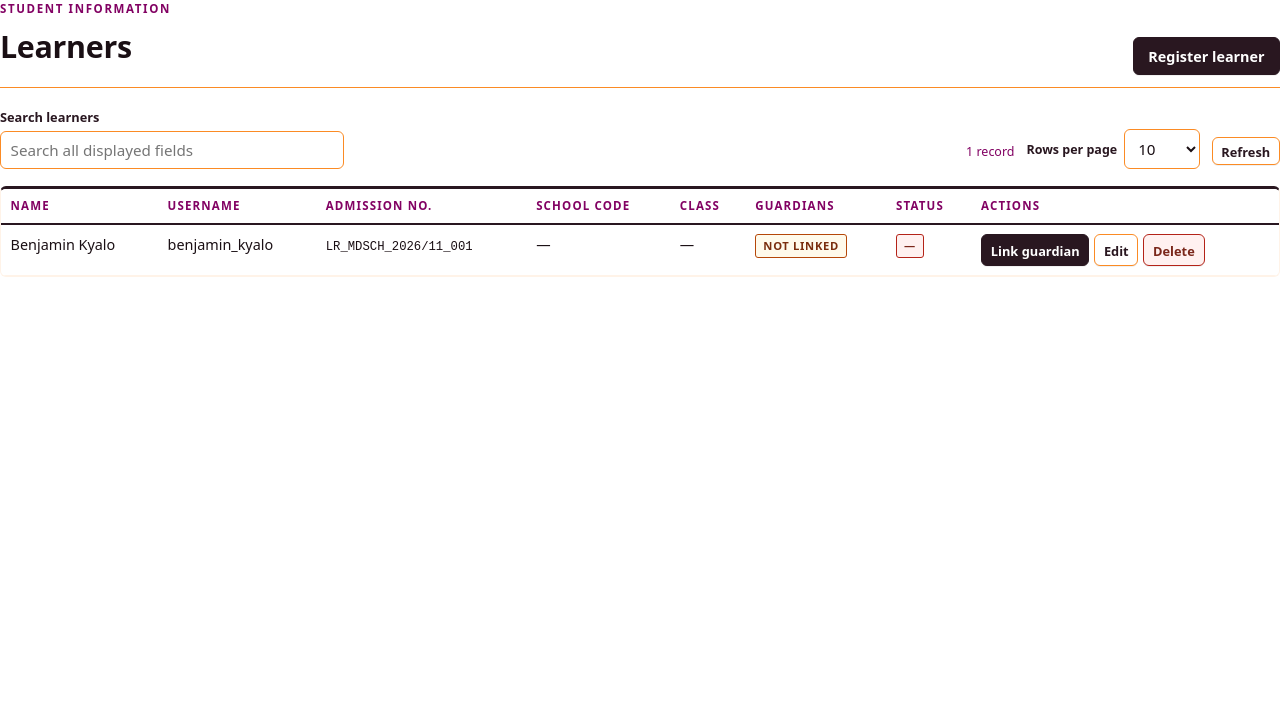
Test: Learners guardian linking › searches live, prefills the guardian details and posts the selected id
Later steps or results of the test are not shown.
Click the button "Link guardian" at (1035, 250), box [981,234,1089,266]
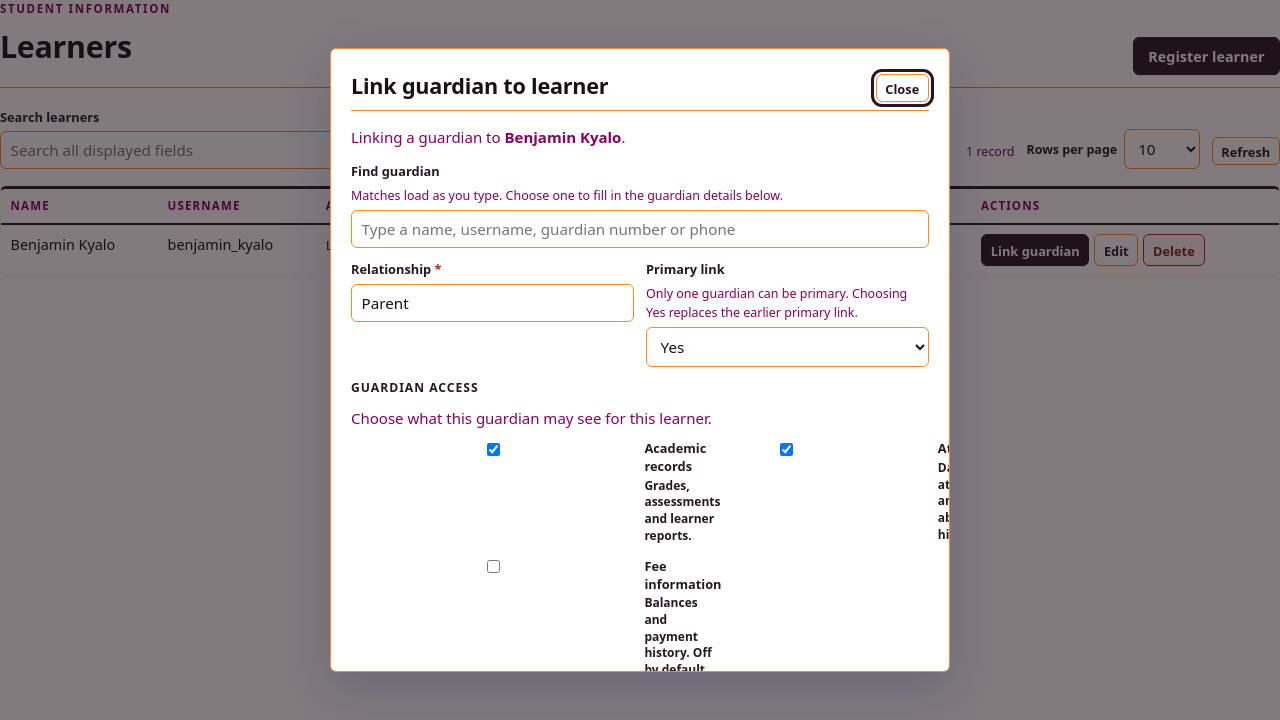
Type "mary" into the dropdown with placeholder "Type a name, username, guardian number or phone" at (640, 229), box [351,210,929,248]
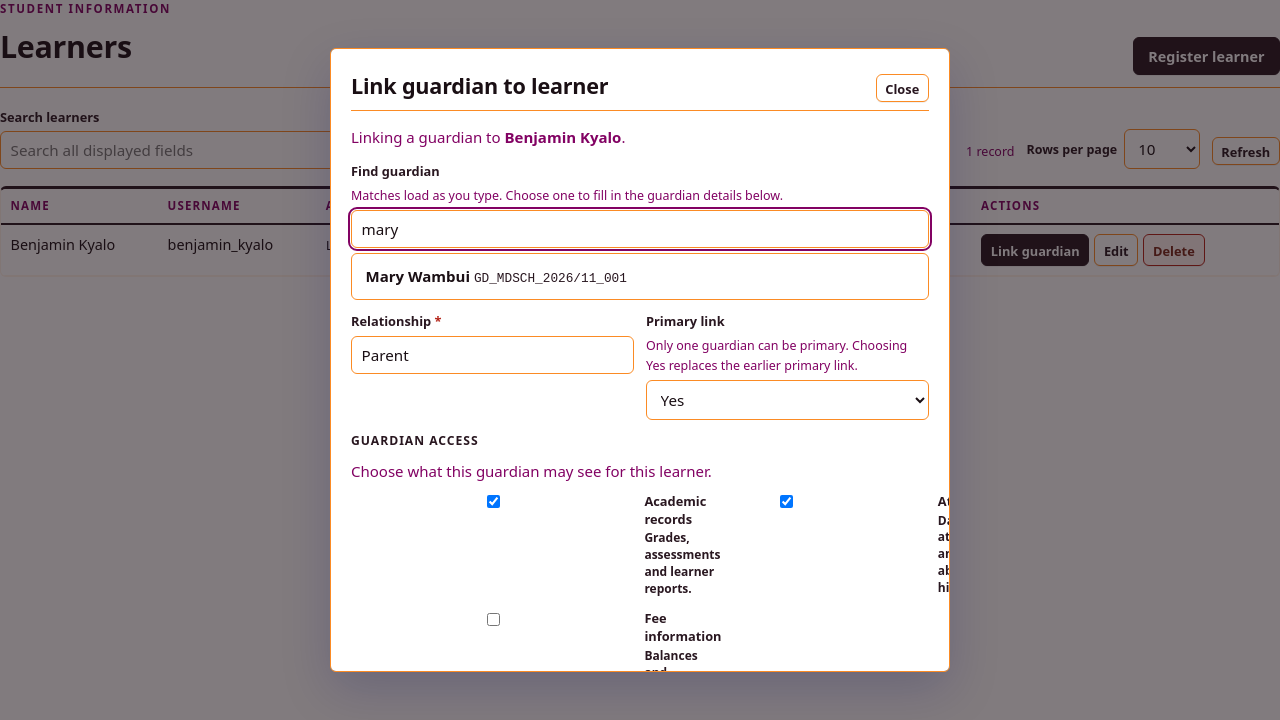
Click the text "Mary Wambui" at (418, 276), box [366,266,470,286]
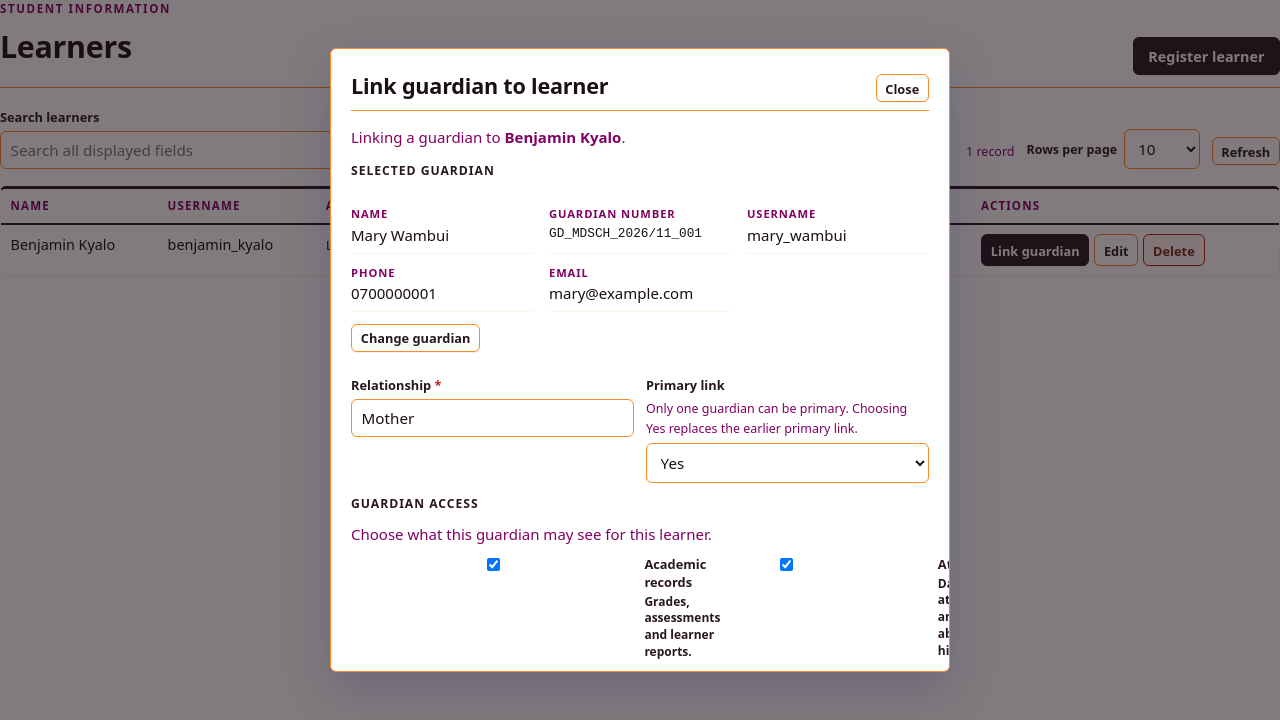
Result: the text "GD_MDSCH_2026/11_001" is shown at [549,226,702,241]
Result: the text "Selected guardian" is shown at [351,162,495,180]
Result: the field showing "Mother" is shown at [351,399,634,437]
